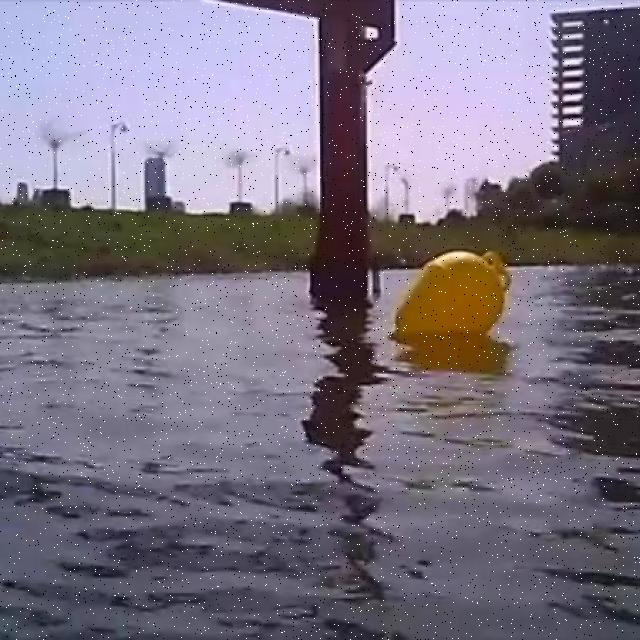buoy: (384, 250, 508, 339)
